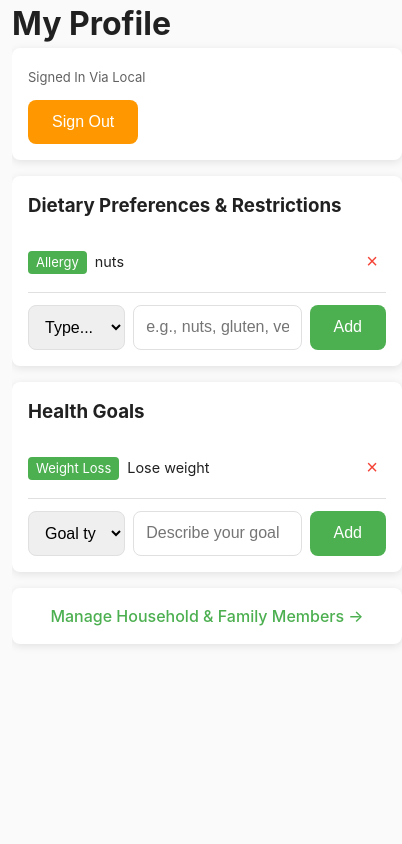
Test case: ProfileView › removes a health goal when remove button is clicked
Note: Find and click the remove button for the goal
Click the button with class "remove-btn" next to "Lose weight" at (372, 468), box [358,446,386,490]
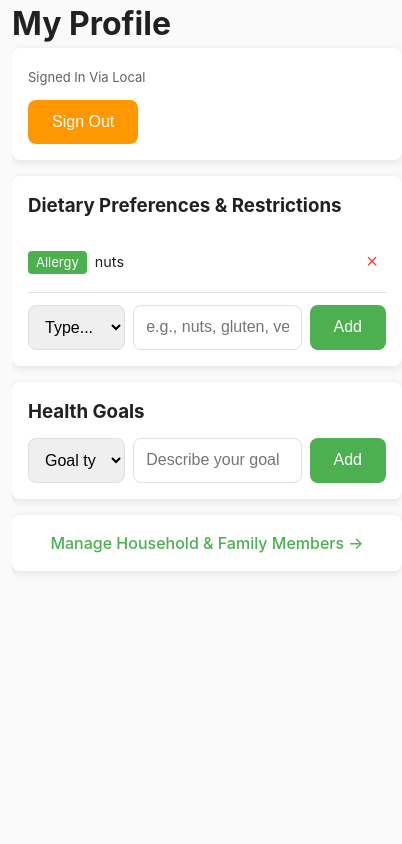
Now no elements with class "goal-item" are shown
